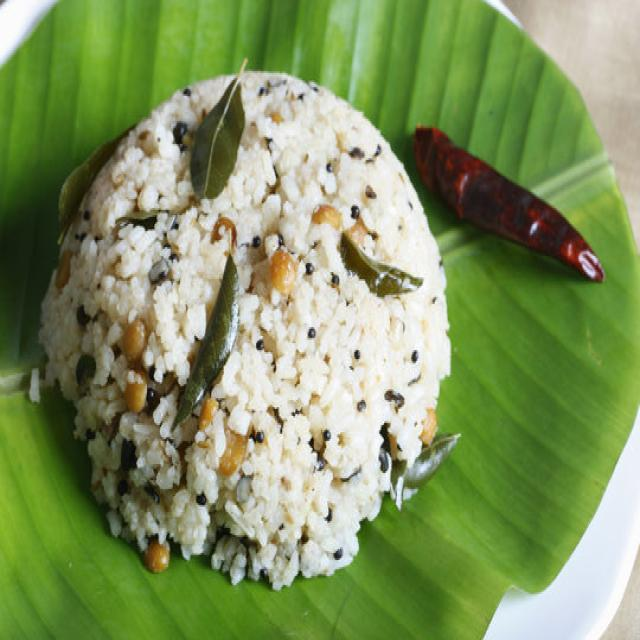UPMA: (31, 66, 457, 588)
